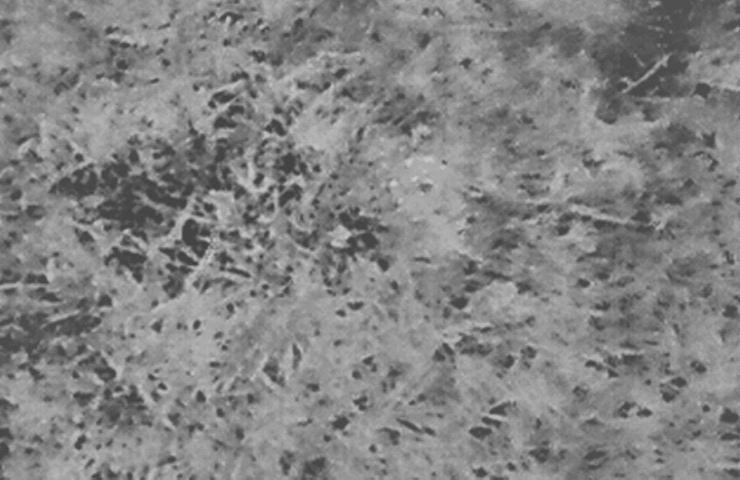landmines: (386, 152, 462, 221)
